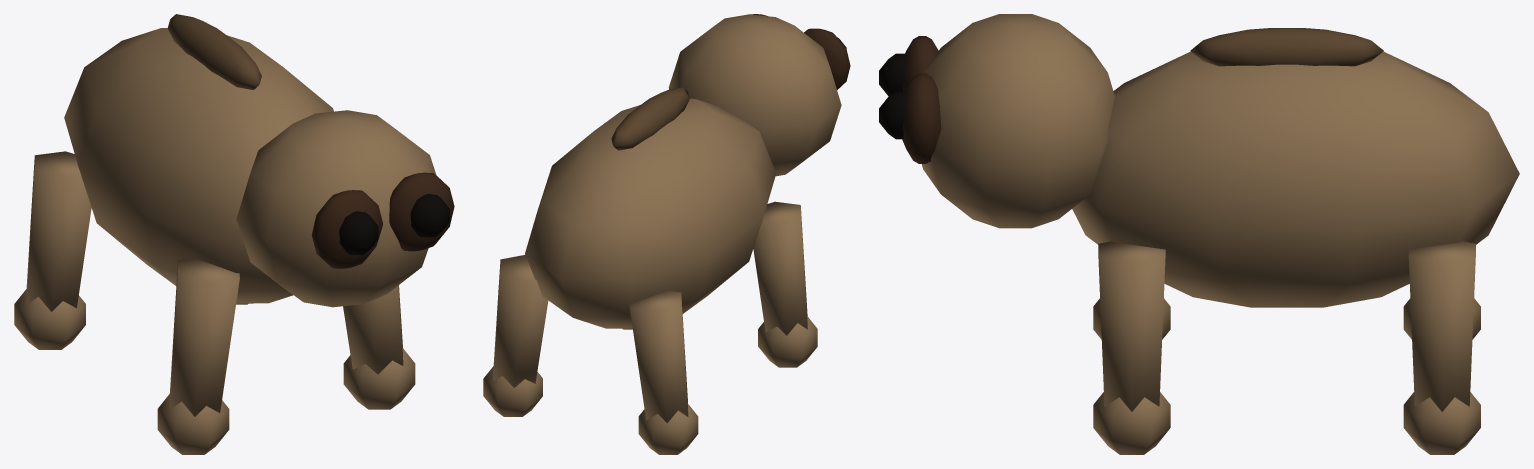
The model's file is slow-loris.glb.
3 views of the same model, side by side, from view 1: azimuth 30°, elevation 25°; view 2: azimuth 150°, elevation 25°; view 3: azimuth 270°, elevation 25° (orthographic). The views are drawn at different scales.
Parts seen in each view (by area): view 1: Primate-slow-loris; view 2: Primate-slow-loris; view 3: Primate-slow-loris.
Boxes of the visible parts, bbox=[...] form: Primate-slow-loris: bbox=[14, 14, 454, 454]; Primate-slow-loris: bbox=[483, 14, 850, 454]; Primate-slow-loris: bbox=[879, 14, 1519, 454].
Bounding box in the file's own units: 0.1546 × 0.216 × 0.3304.
